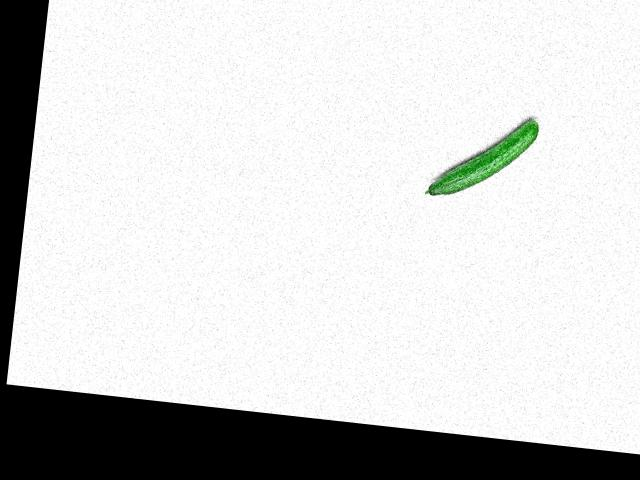cucumber: (423, 108, 539, 205)
